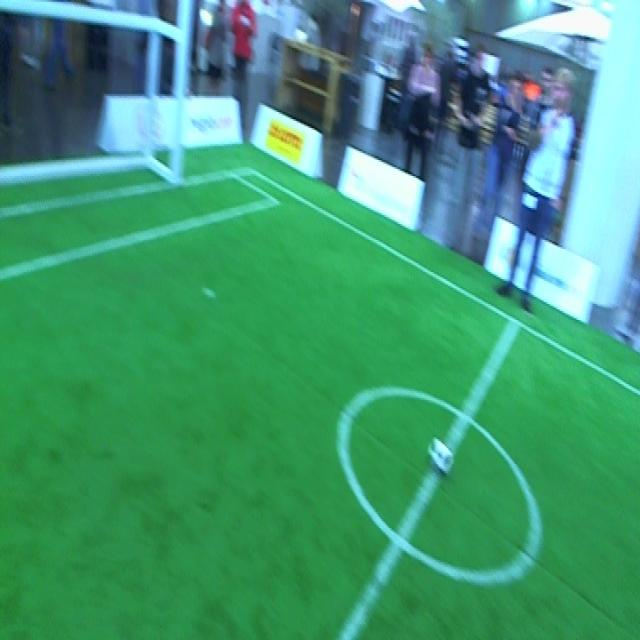ball: (429, 428, 453, 486)
goalpost: (170, 2, 191, 186)
